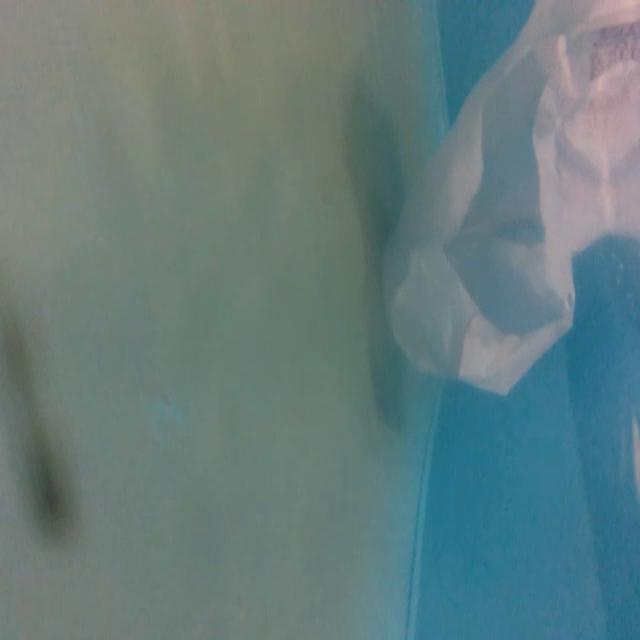plastic bags: (367, 3, 640, 404)
